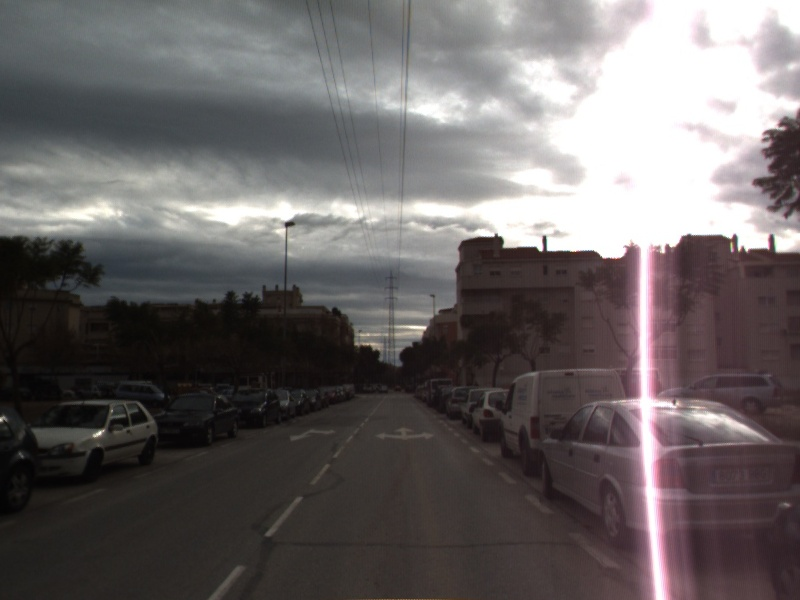STRAIGHT_LEFT_RIGHT: (373, 425, 437, 442)
